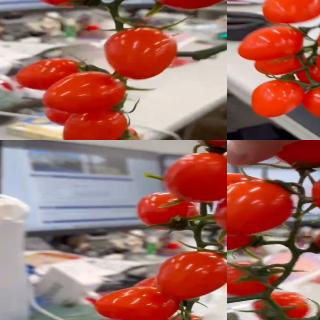tomato: (102, 27, 176, 80), (227, 179, 296, 234), (41, 71, 126, 115), (157, 250, 227, 301), (161, 154, 227, 205), (94, 284, 180, 320), (12, 58, 84, 94), (238, 24, 306, 61), (136, 194, 202, 232), (63, 106, 128, 140), (251, 79, 306, 119), (227, 261, 278, 297), (253, 290, 314, 320), (253, 49, 308, 78), (277, 140, 320, 176), (260, 0, 320, 25), (227, 170, 269, 201), (227, 206, 253, 250), (299, 83, 320, 122), (175, 311, 213, 320)
